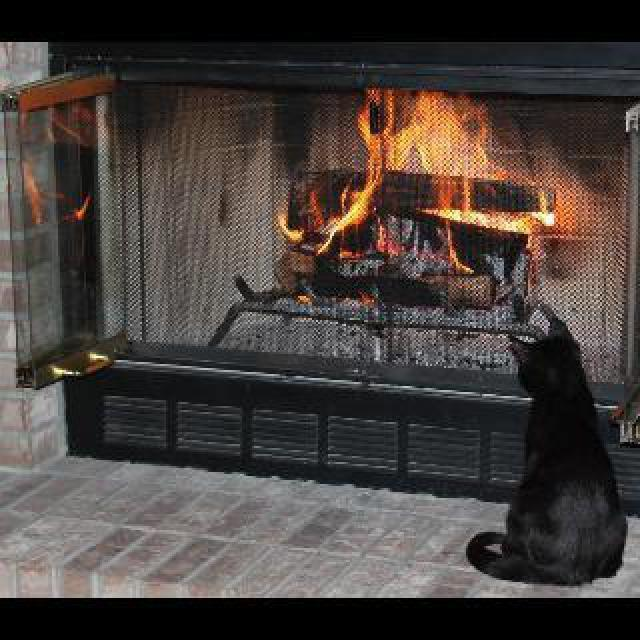Fire: (276, 82, 548, 304)
